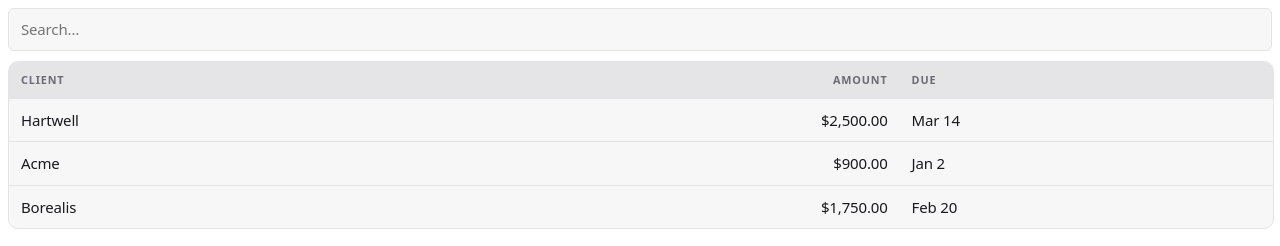
Scenario: DataTable › filters via the search box when searchable
This screenshot has width=1280, height=246.
Step 1. Type "borealis" into the search field → (640, 29), box [8,8,1272,50]
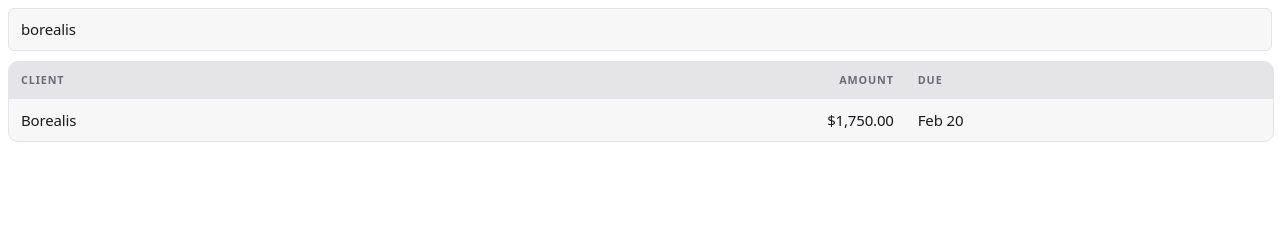
Expected: the text "Borealis" is shown, [9,98,427,141]
Result: the text "Hartwell" is gone
